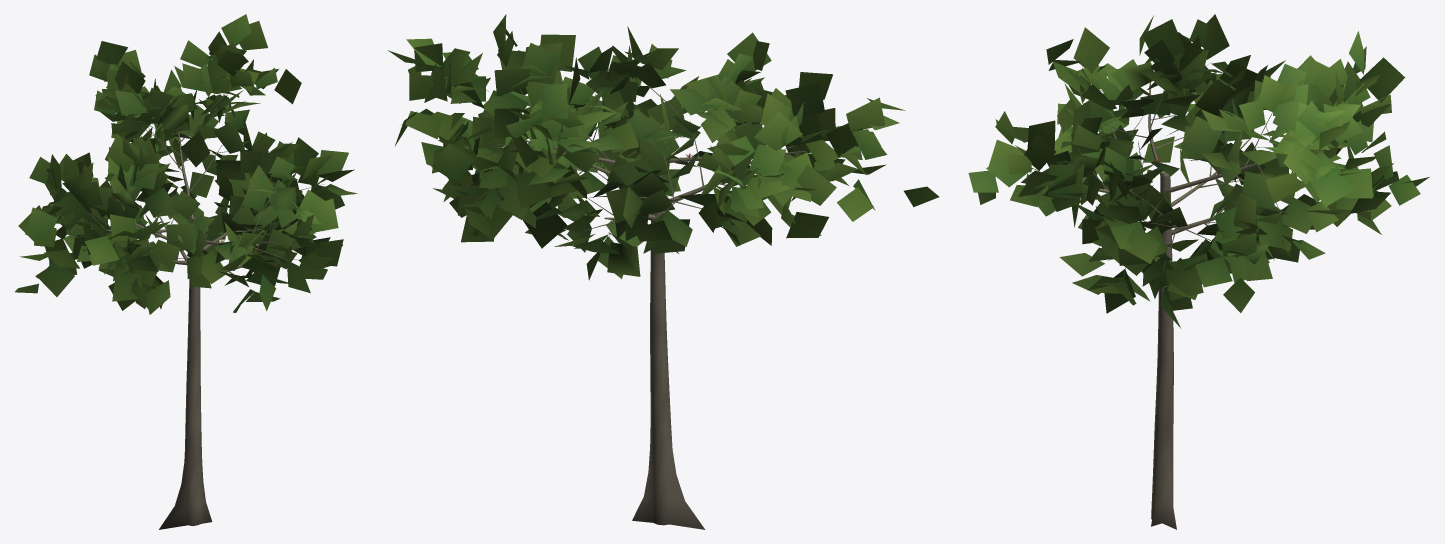
Rendered from emergent-a.lod1.glb.
The picture shows the model from 3 angles, left to right: view 1: azimuth 30°, elevation 25°; view 2: azimuth 150°, elevation 25°; view 3: azimuth 270°, elevation 25°; orthographic projection. The views are drawn at different scales.
Size of the model in its own units: 23.98 by 27.02 by 23.02.
